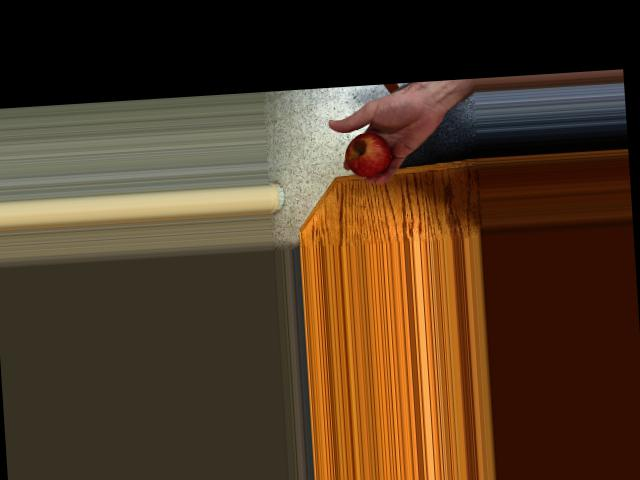apple: (342, 127, 397, 178)
